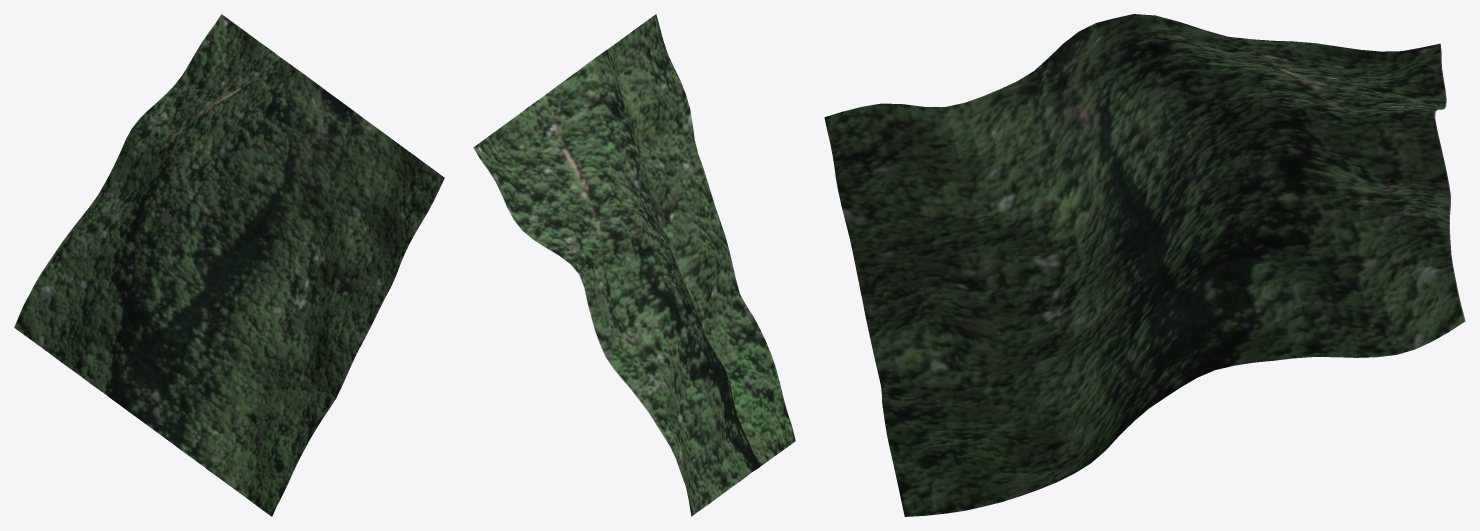
3 renders of one model, left to right at view 1: azimuth 30°, elevation 25°; view 2: azimuth 150°, elevation 25°; view 3: azimuth 270°, elevation 25°, orthographic. The views are drawn at different scales.
Size of the model in its own units: 400 by 604 by 600.
1 material, 1 textured.
